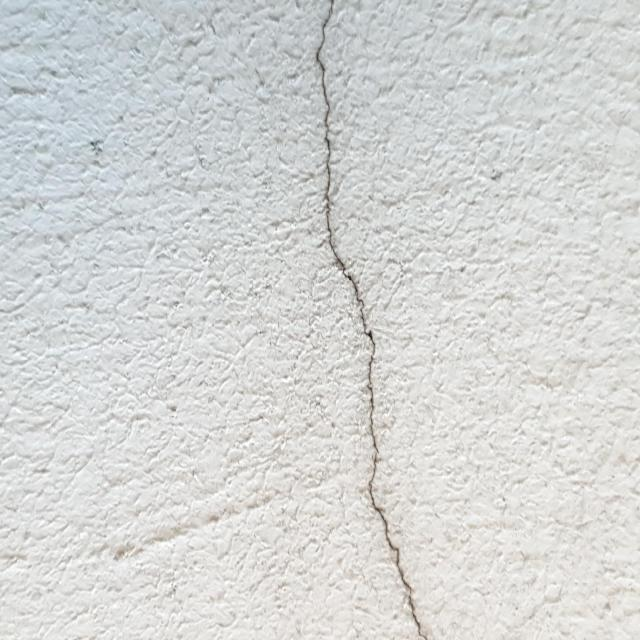SurfaceCrack: (276, 0, 455, 640)
